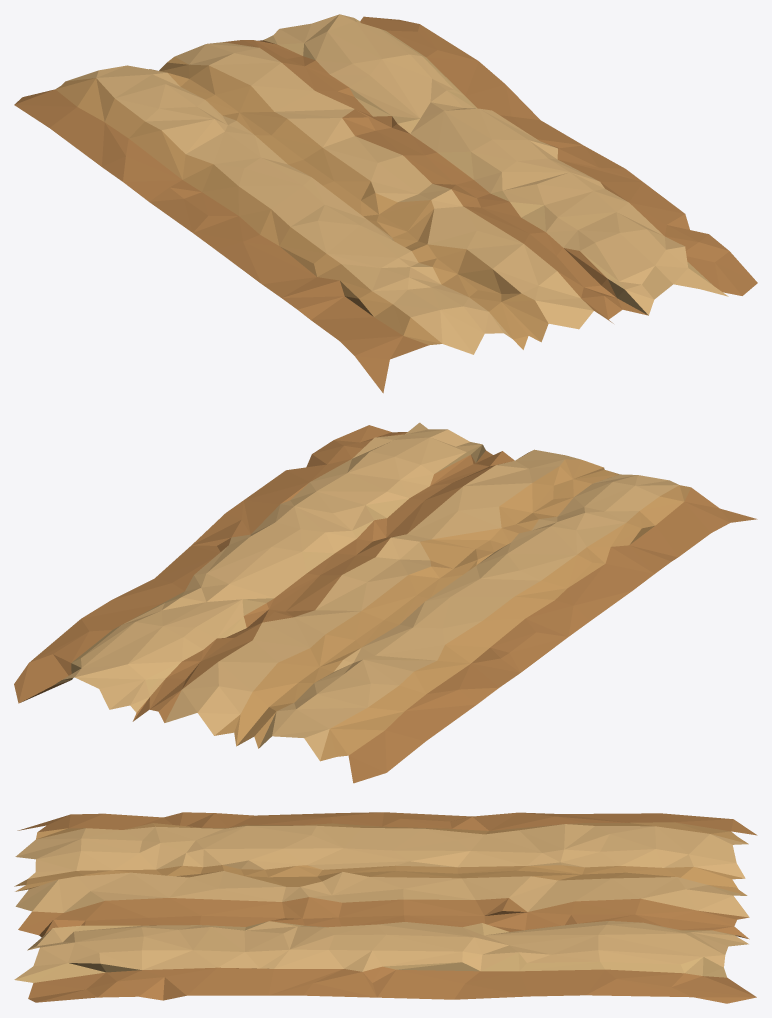
Rendered from EA_M_Env_Patch_Sand_01c.fbx.
The picture shows the model from 3 angles, top to bottom: view 1: azimuth 30°, elevation 25°; view 2: azimuth 150°, elevation 25°; view 3: azimuth 270°, elevation 25°; orthographic projection. The views are drawn at different scales.
Visible parts, largest first — view 1: EA_M_Env_Patch_Sand_01c_LOD0; view 2: EA_M_Env_Patch_Sand_01c_LOD0; view 3: EA_M_Env_Patch_Sand_01c_LOD0.
Part boxes in pixels (x1,y1,x2,y2): EA_M_Env_Patch_Sand_01c_LOD0: [14, 14, 757, 393]; EA_M_Env_Patch_Sand_01c_LOD0: [14, 422, 757, 783]; EA_M_Env_Patch_Sand_01c_LOD0: [14, 812, 757, 1003].
Size of what is drawn, in the model's own units: 4.1 by 0.3944 by 7.02.
